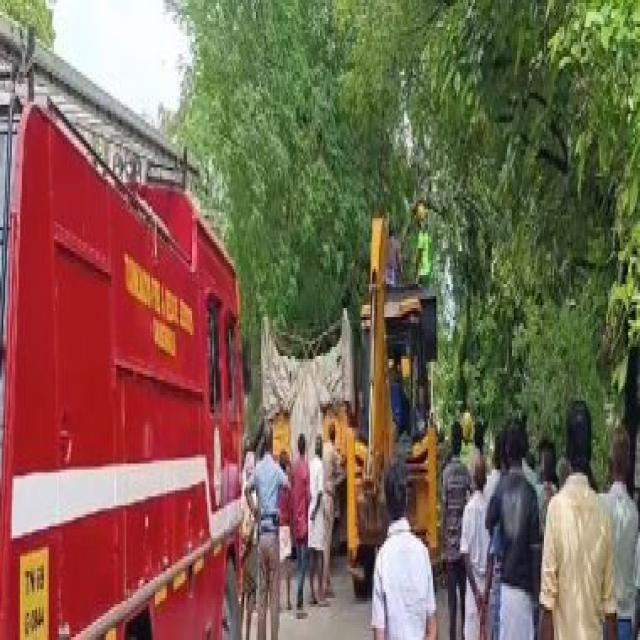emergency: (0, 18, 242, 638)
